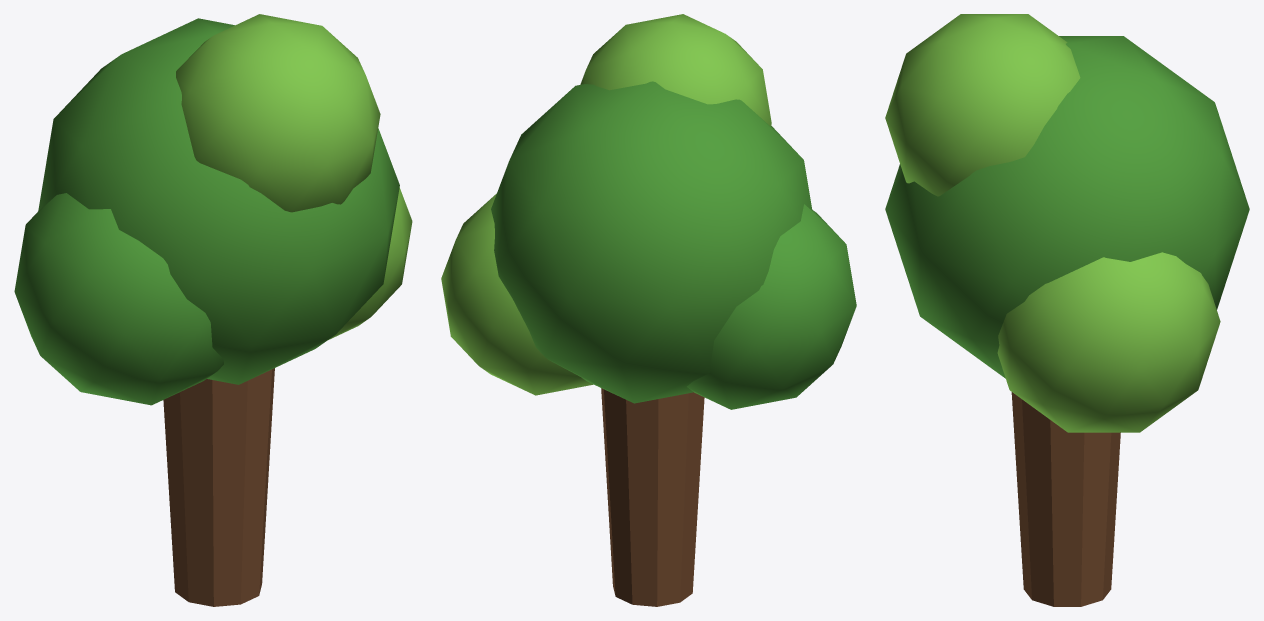
Rendered from for_tree_round.glb.
3 renders of one model, left to right at view 1: azimuth 30°, elevation 25°; view 2: azimuth 150°, elevation 25°; view 3: azimuth 270°, elevation 25°, orthographic. The views are drawn at different scales.
Visible parts, largest first — view 1: for_tree_round; view 2: for_tree_round; view 3: for_tree_round.
Part boxes in pixels (x1=…): for_tree_round: x1=14, y1=14, x2=412, y2=606; for_tree_round: x1=441, y1=14, x2=856, y2=606; for_tree_round: x1=885, y1=14, x2=1249, y2=606.
Bounding box in the file's own units: 1.21 × 1.75 × 1.
